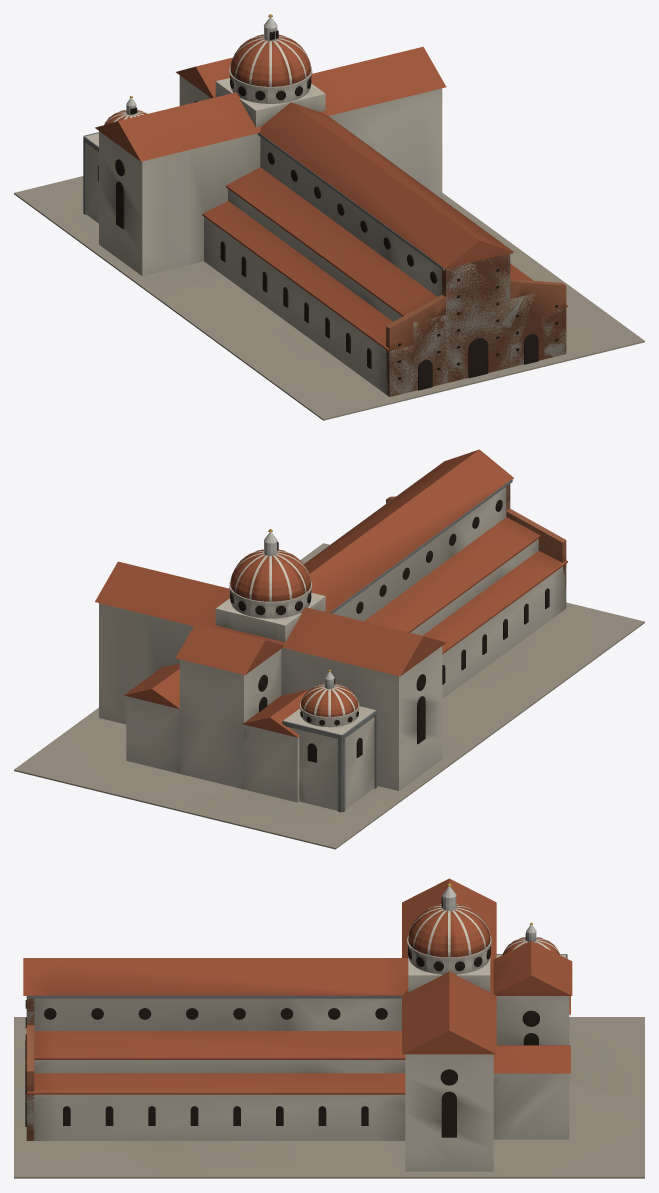
Rendered from san-lorenzo.glb.
The picture shows the model from 3 angles, top to bottom: view 1: azimuth 30°, elevation 25°; view 2: azimuth 150°, elevation 25°; view 3: azimuth 270°, elevation 25°; orthographic projection.
Parts seen in each view (by area): view 1: p0_walls, p1_roofs, p2_domes; view 2: p0_walls, p1_roofs, p2_domes; view 3: p0_walls, p1_roofs, p2_domes.
Boxes of the visible parts, x1,y1,x2,y2 form: p0_walls: (14,75,644,420); p1_roofs: (95,46,567,350); p2_domes: (83,14,325,223); p0_walls: (14,462,644,849); p1_roofs: (95,449,567,676); p2_domes: (215,529,377,812); p0_walls: (14,995,644,1178); p1_roofs: (23,878,572,1094); p2_domes: (407,883,567,992).
Bounding box in the file's own units: 60 × 37.63 × 100.
